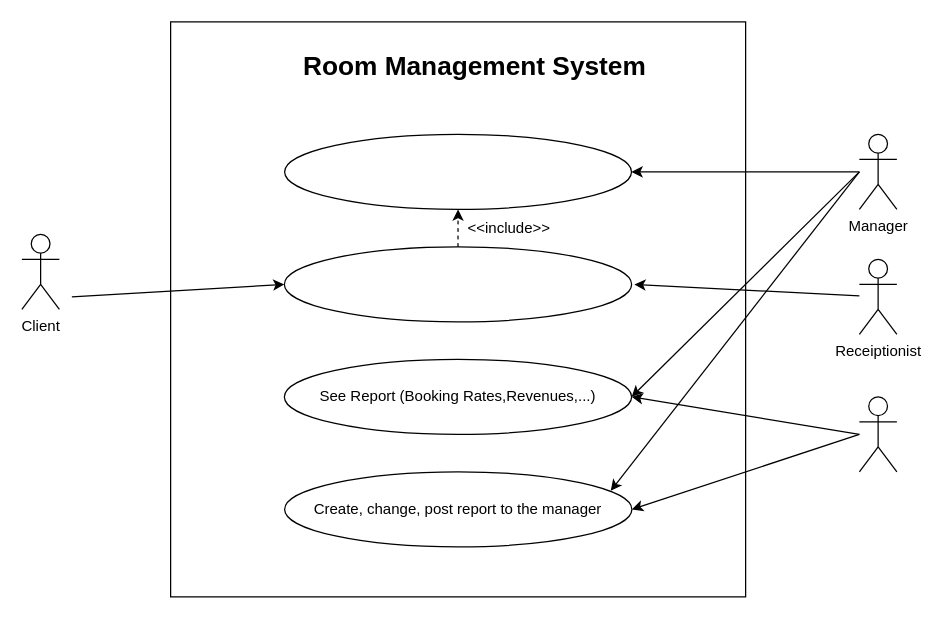
This 943x619 diagram has some shape labels left out. Each missing label, with the box of its shape:
Manage Room Information (Change,delete,add room): (283, 133, 632, 209)
Rooms Information: (283, 246, 632, 322)
Sales: (858, 396, 897, 472)
